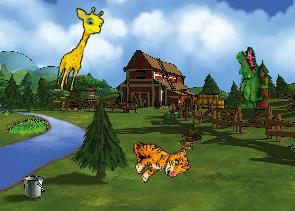crocodile: (220, 44, 283, 113)
giraffe: (53, 2, 107, 97)
tiger: (127, 129, 192, 188)
